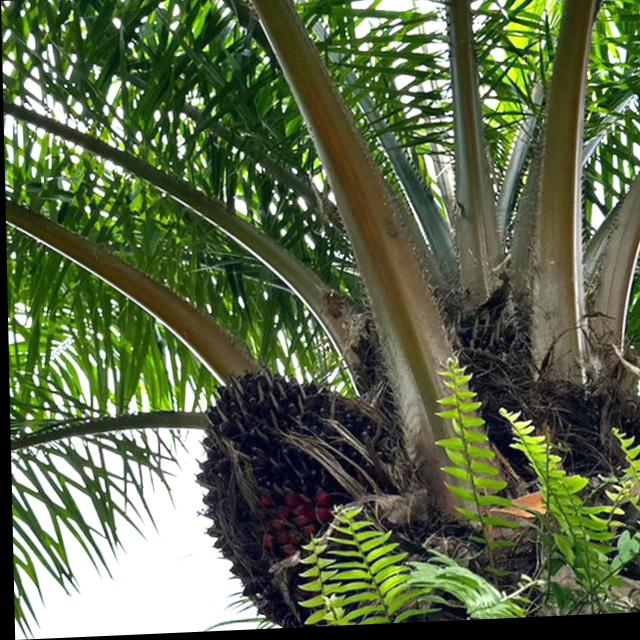ripe: (176, 360, 389, 627)
